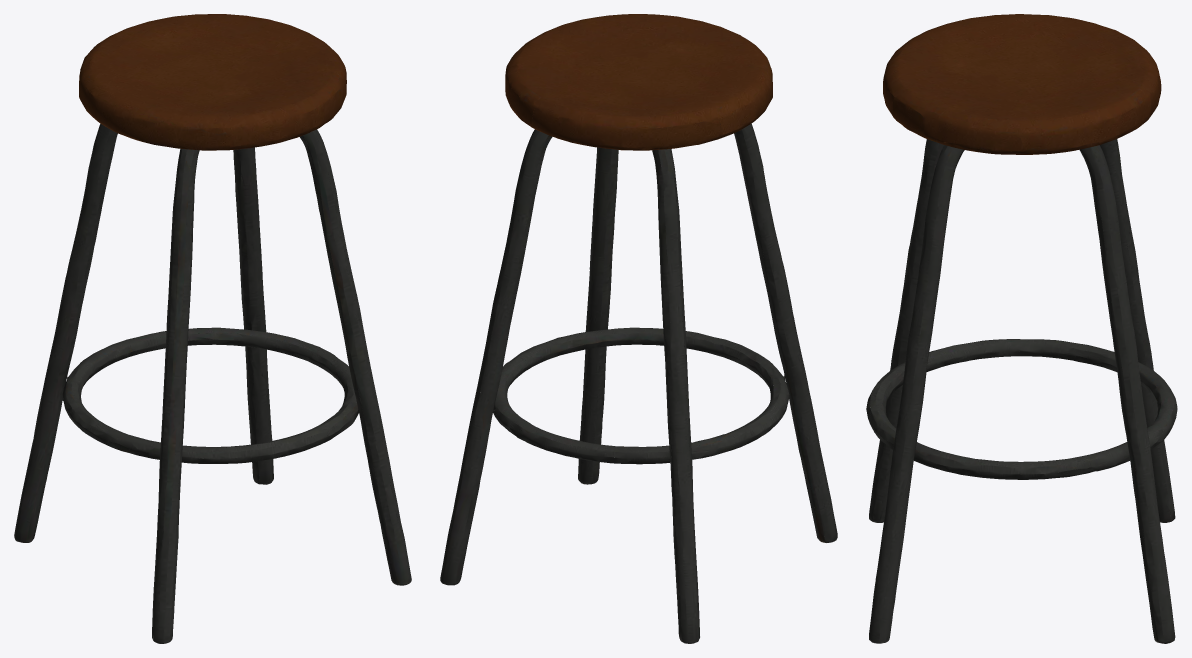
File: stool.glb
The picture shows the model from 3 angles, left to right: view 1: azimuth 30°, elevation 25°; view 2: azimuth 150°, elevation 25°; view 3: azimuth 270°, elevation 25°; orthographic projection. The views are drawn at different scales.
Parts seen in each view (by area): view 1: Mesh_0; view 2: Mesh_0; view 3: Mesh_0.
Boxes of the visible parts, x1,y1,x2,y2 form: Mesh_0: [14, 14, 411, 643]; Mesh_0: [440, 14, 837, 643]; Mesh_0: [866, 14, 1177, 643].
Bounding box in the file's own units: 0.5496 × 1 × 0.5495.
Materials: 1 (1 with a texture image).
